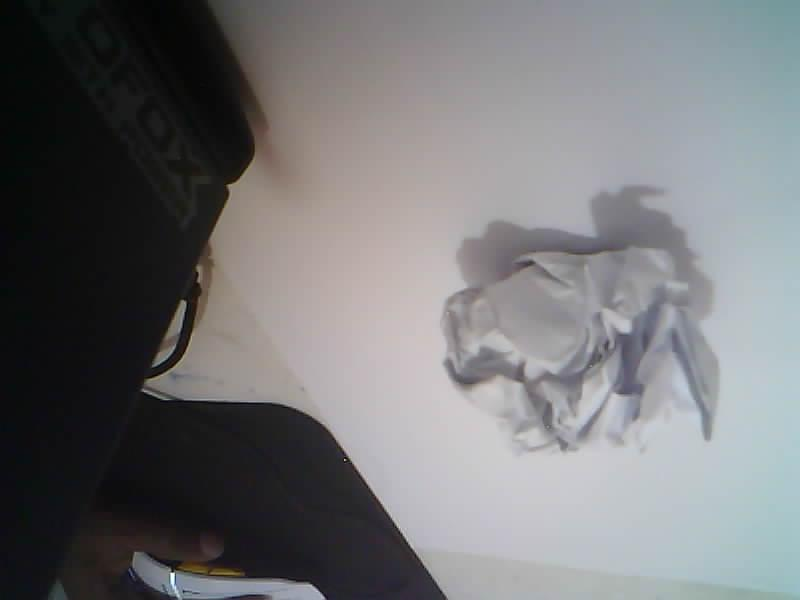biodegradable: (441, 247, 717, 454)
